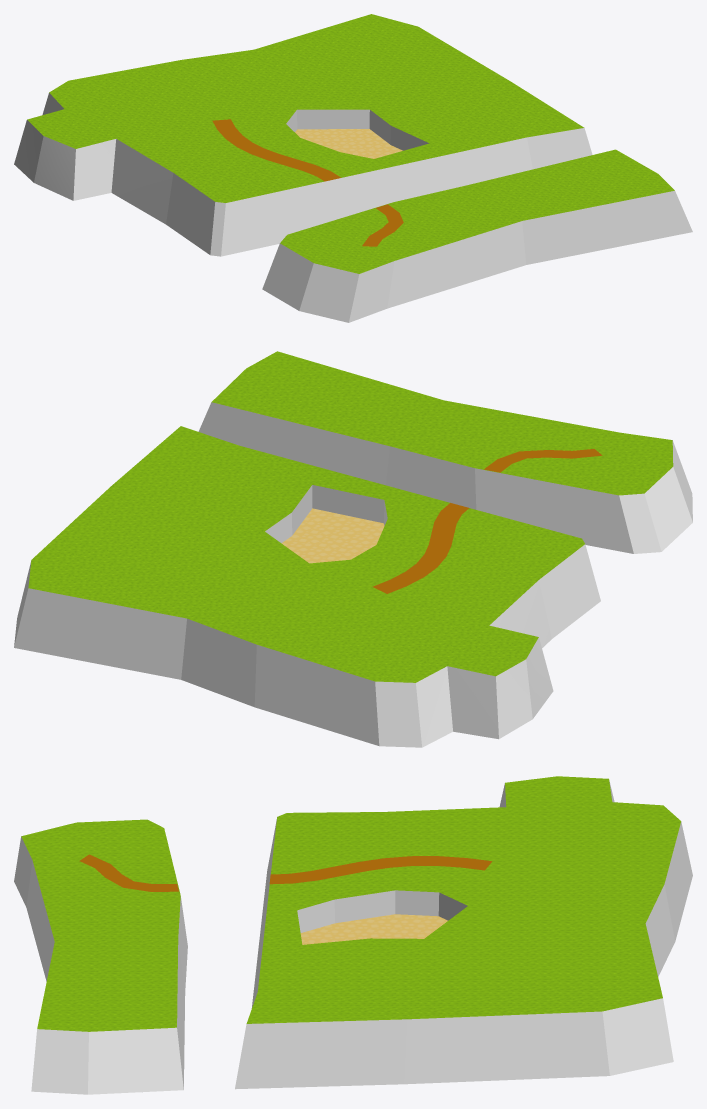
3 views of the same model, one above another, from view 1: azimuth 30°, elevation 25°; view 2: azimuth 150°, elevation 25°; view 3: azimuth 270°, elevation 25° (orthographic). The views are drawn at different scales.
Visible parts, largest first — view 1: PolyShape, PolyShape__1_, Road_Mesh_Holder, Road_Mesh_Holder_1; view 2: PolyShape, PolyShape__1_, Road_Mesh_Holder, Road_Mesh_Holder_1; view 3: PolyShape, PolyShape__1_, Road_Mesh_Holder, Road_Mesh_Holder_1.
Boxes of the visible parts, <box> form: PolyShape: <box>14,14,592,256</box>; PolyShape__1_: <box>262,149,692,322</box>; Road_Mesh_Holder: <box>212,119,340,181</box>; Road_Mesh_Holder_1: <box>362,204,403,246</box>; PolyShape: <box>14,426,600,747</box>; PolyShape__1_: <box>198,351,692,553</box>; Road_Mesh_Holder: <box>372,503,468,593</box>; Road_Mesh_Holder_1: <box>484,449,602,472</box>; PolyShape: <box>235,776,692,1089</box>; PolyShape__1_: <box>14,819,187,1094</box>; Road_Mesh_Holder: <box>269,856,492,884</box>; Road_Mesh_Holder_1: <box>79,854,178,891</box>.
Bounding box in the file's own units: 2727 × 282 × 2923.
5 materials, 2 textured.
